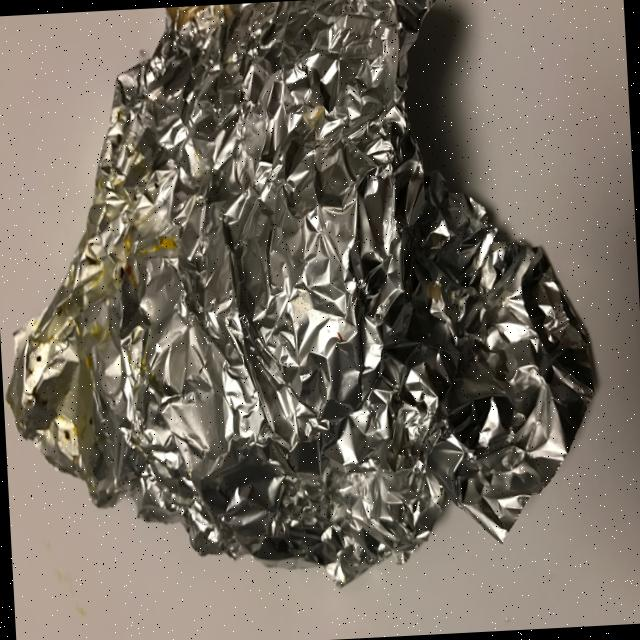metal: (0, 0, 607, 605)
